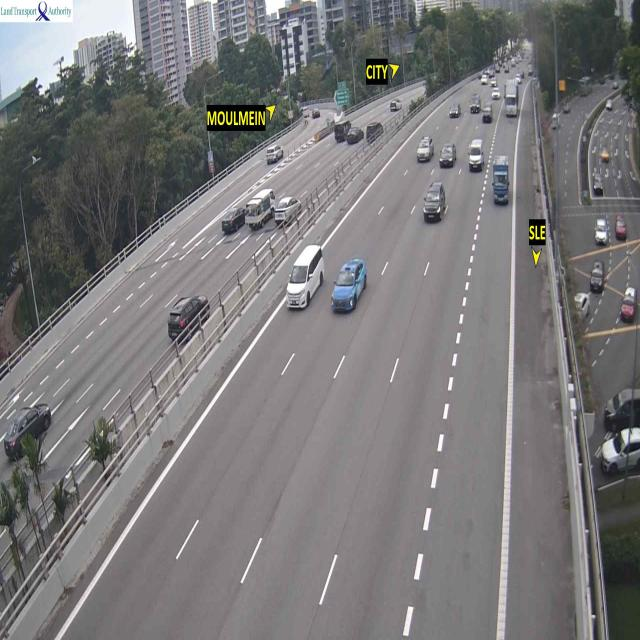vehicles: (162, 291, 213, 348), (286, 252, 327, 316), (331, 255, 366, 315), (490, 152, 514, 212), (426, 180, 448, 227), (220, 201, 245, 238), (277, 196, 305, 224), (466, 137, 486, 174), (504, 84, 522, 123), (436, 138, 457, 169), (417, 133, 435, 167), (270, 145, 284, 164)
